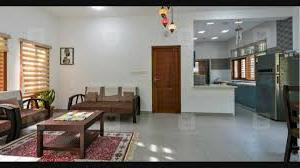chair: (1, 88, 50, 136), (280, 81, 300, 160), (0, 108, 15, 146)
door: (153, 46, 179, 113)
light: (236, 19, 244, 29), (206, 22, 217, 27), (197, 29, 206, 35), (212, 35, 217, 42), (222, 28, 228, 33), (195, 37, 199, 42)
sofa: (68, 84, 141, 122)
table: (36, 109, 108, 158), (191, 79, 256, 95)
